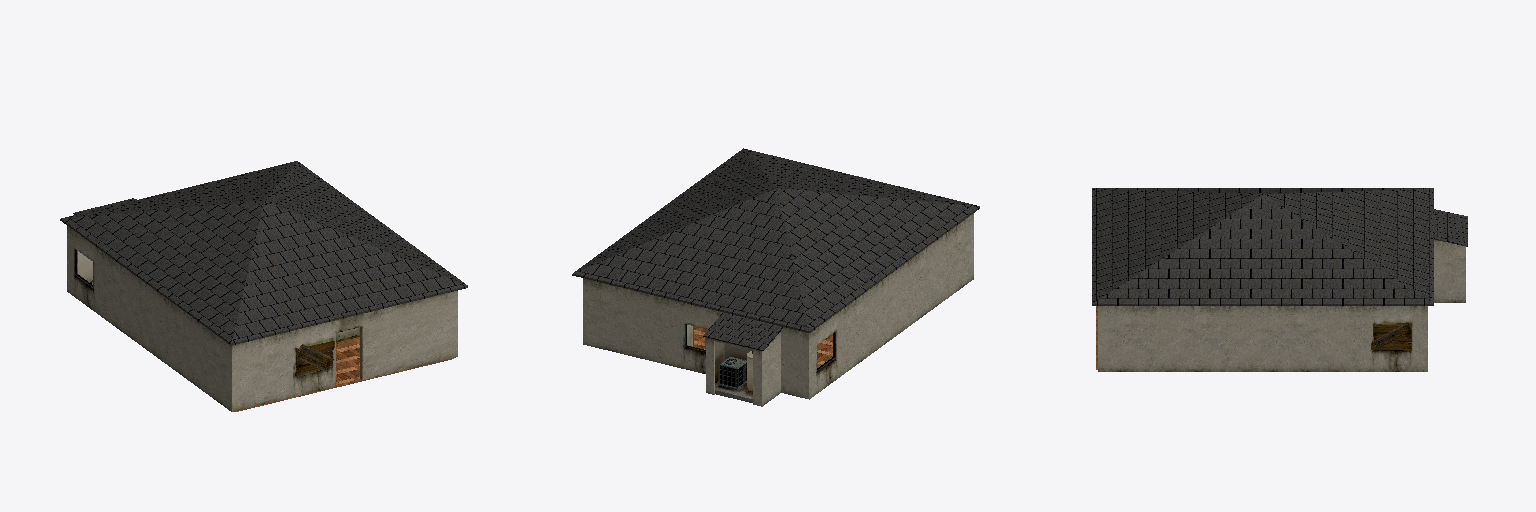
The picture shows the model from 3 angles: view 1: azimuth 30°, elevation 25°; view 2: azimuth 150°, elevation 25°; view 3: azimuth 270°, elevation 25°; orthographic projection.
Visible parts, largest first — view 1: Stmanagehouseroof00-00.Stmanagehouseroof00-02_Stmanagehouseroof0, Plane; view 2: Stmanagehouseroof00-00.Stmanagehouseroof00-02_Stmanagehouseroof0, Plane; view 3: Stmanagehouseroof00-00.Stmanagehouseroof00-02_Stmanagehouseroof0.
Part boxes in pixels (left/top/right/bottom): Stmanagehouseroof00-00.Stmanagehouseroof00-02_Stmanagehouseroof0: left=60, top=161, right=467, bottom=411; Plane: left=235, top=337, right=453, bottom=411; Stmanagehouseroof00-00.Stmanagehouseroof00-02_Stmanagehouseroof0: left=572, top=148, right=979, bottom=406; Plane: left=694, top=326, right=832, bottom=367; Stmanagehouseroof00-00.Stmanagehouseroof00-02_Stmanagehouseroof0: left=1092, top=188, right=1467, bottom=371.
Size of the model in its own units: 1.46 by 0.7232 by 2.
Materials: 43 (43 with a texture image).